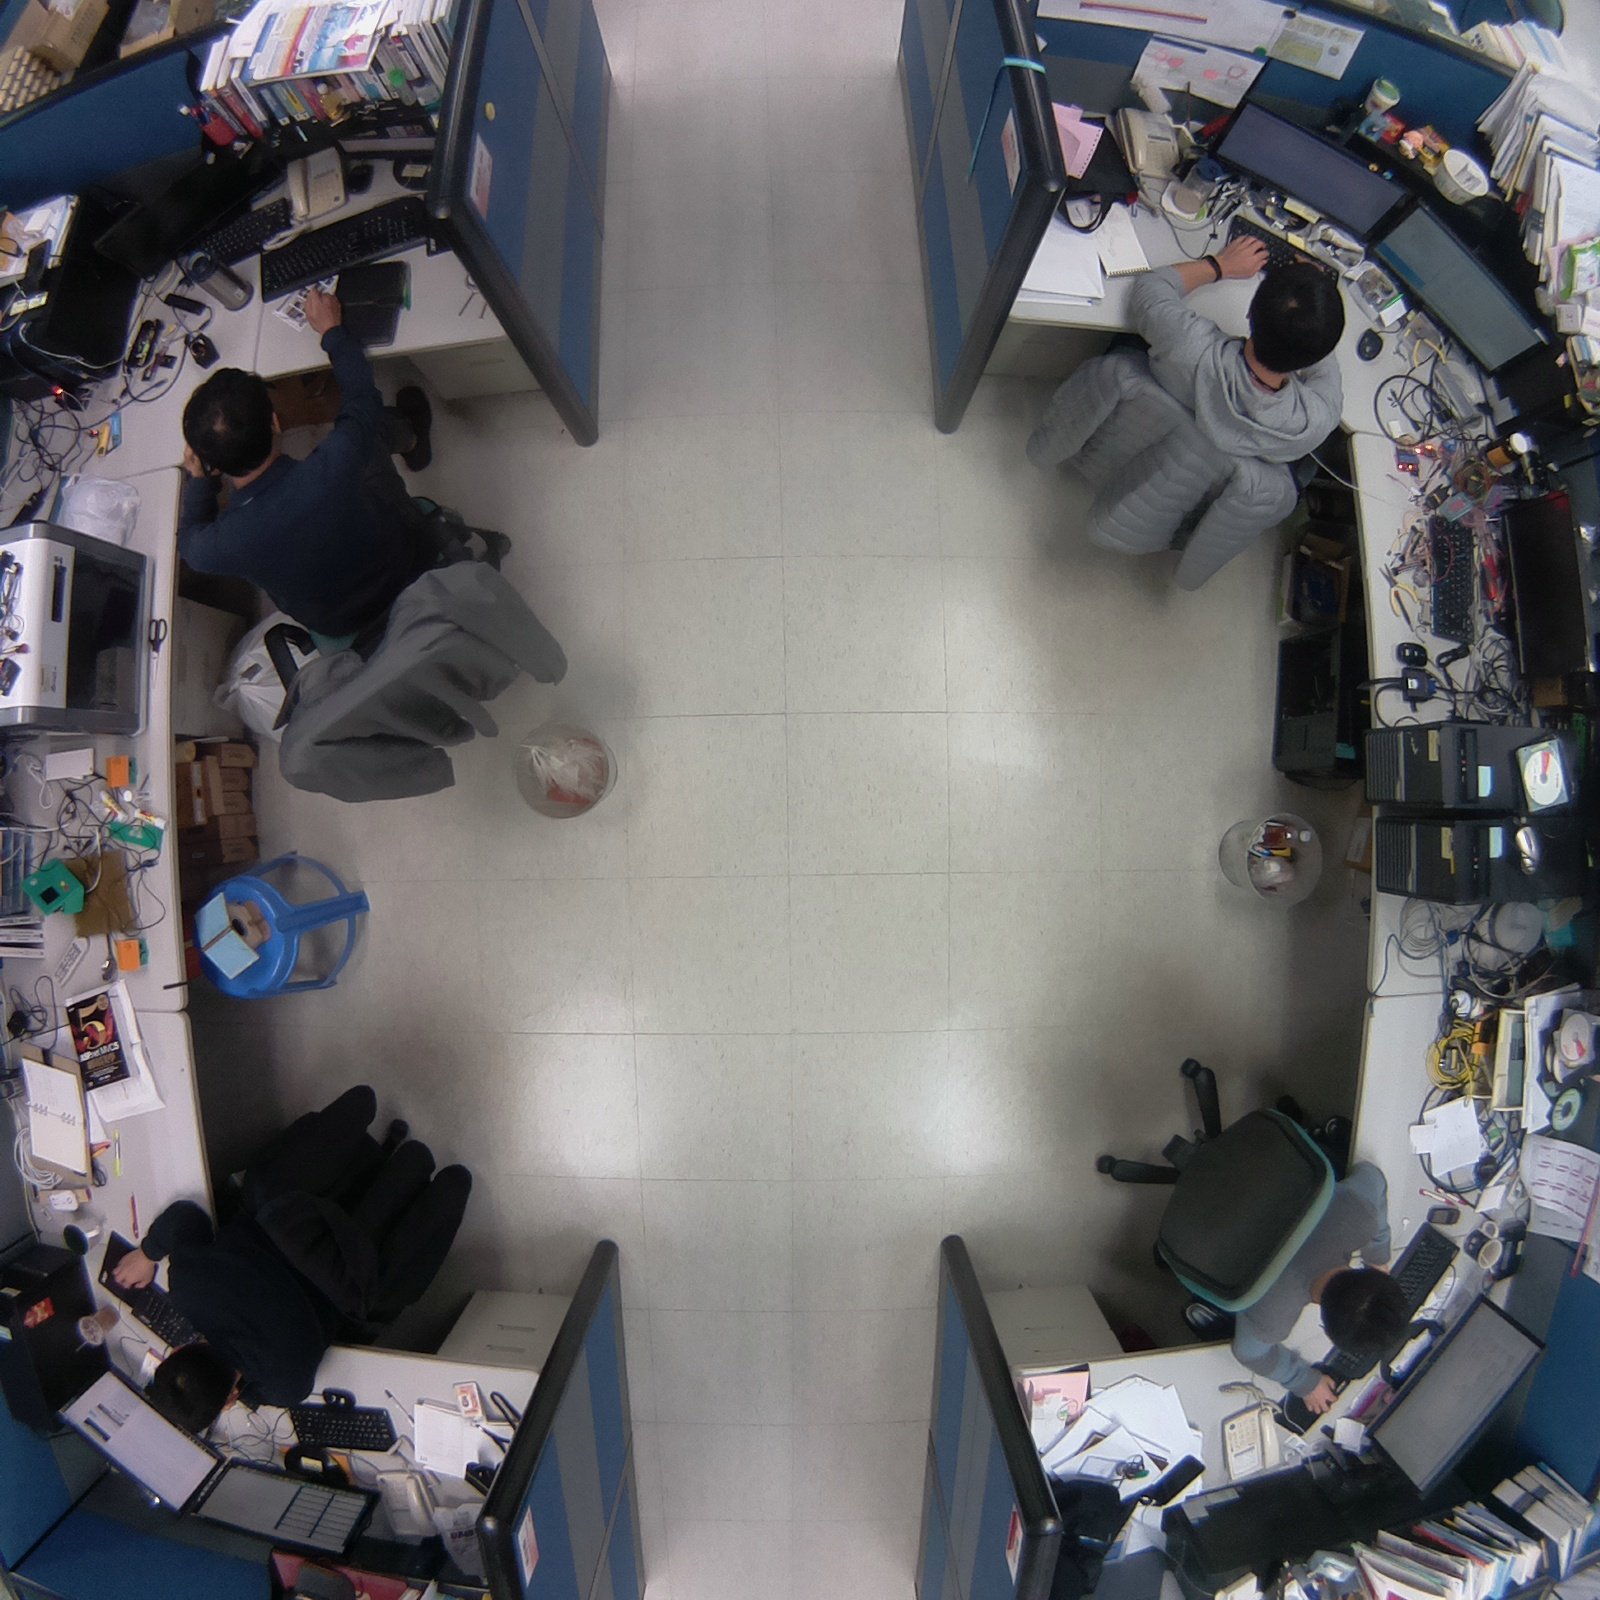head: (1240, 255, 1353, 387), (180, 363, 291, 474), (1312, 1259, 1419, 1368), (142, 1331, 242, 1442)
sitting: (164, 286, 573, 809), (107, 1065, 483, 1441), (1014, 224, 1362, 606), (1086, 1042, 1436, 1420)
